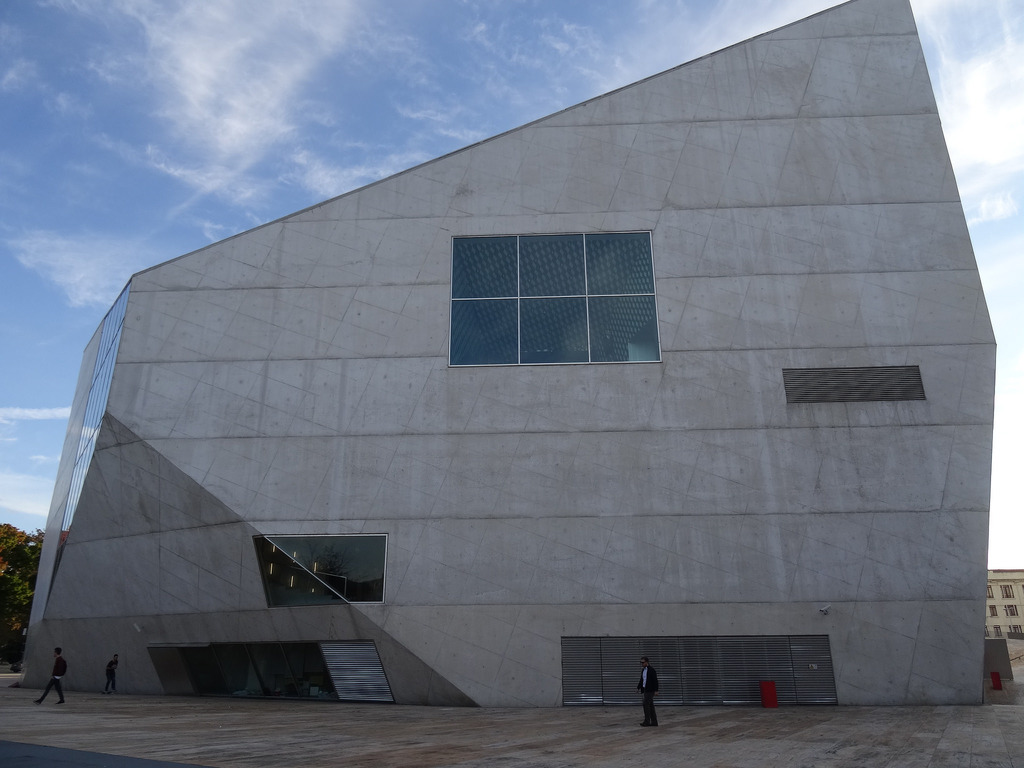musica: (23, 0, 997, 707)
